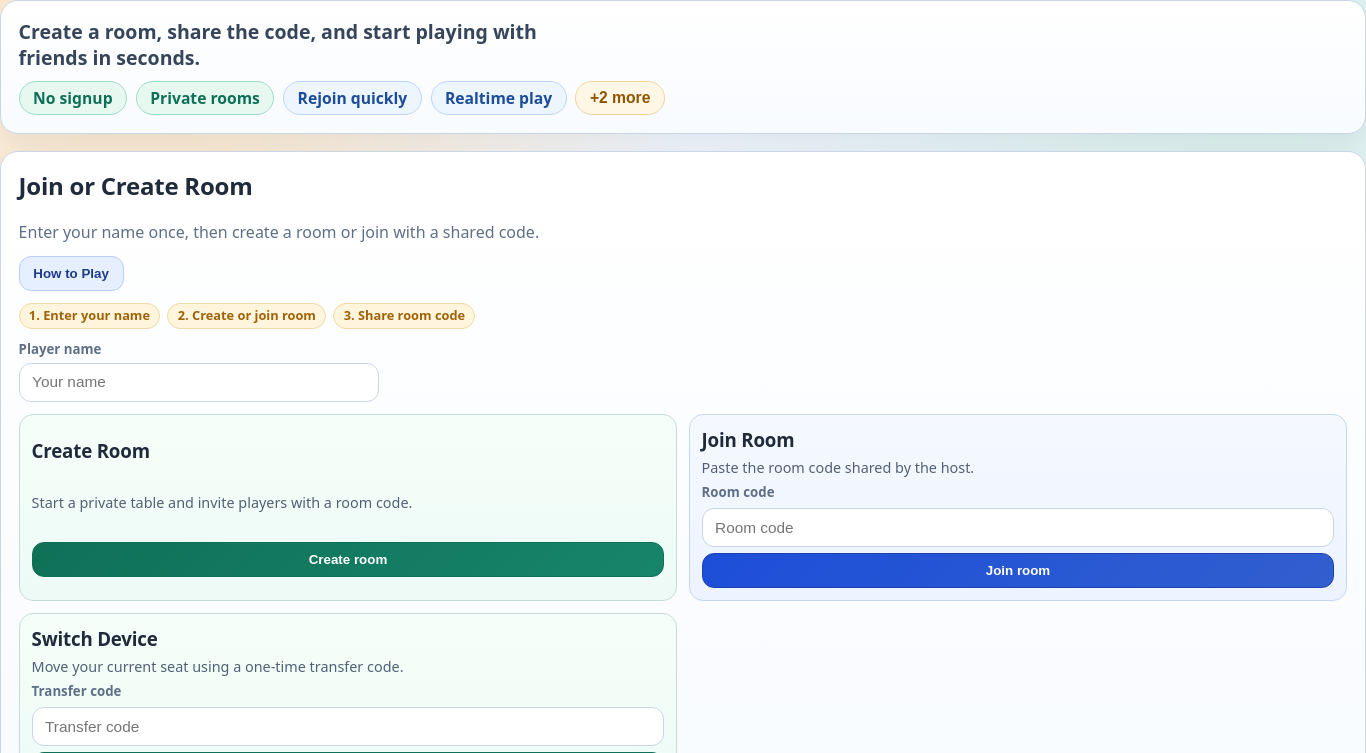
Scenario: GameClient › creates room and joins socket with saved session
Step 1. Type "Host" into the field labelled "name" → (199, 382), box top-left (19, 363), bottom-right (379, 402)
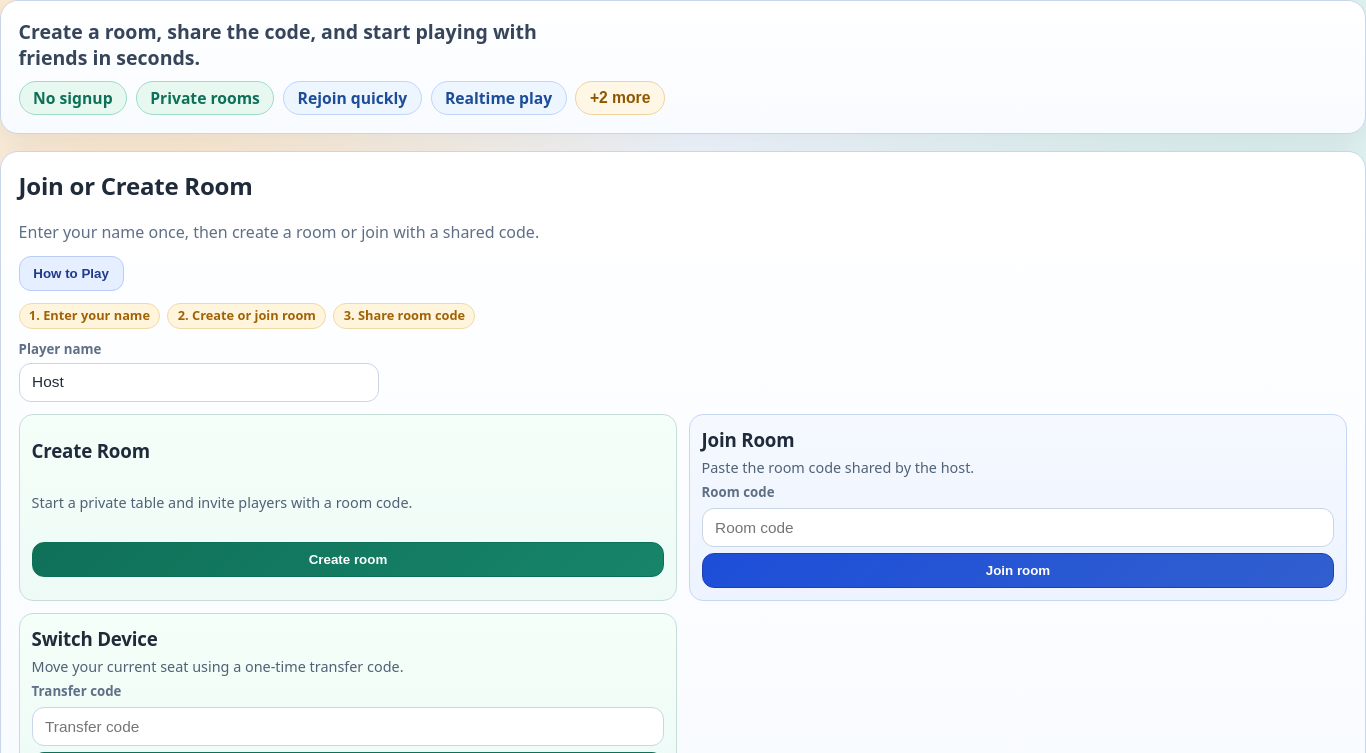
Step 2. Click the button "Create room" → (348, 559), box top-left (32, 542), bottom-right (664, 577)
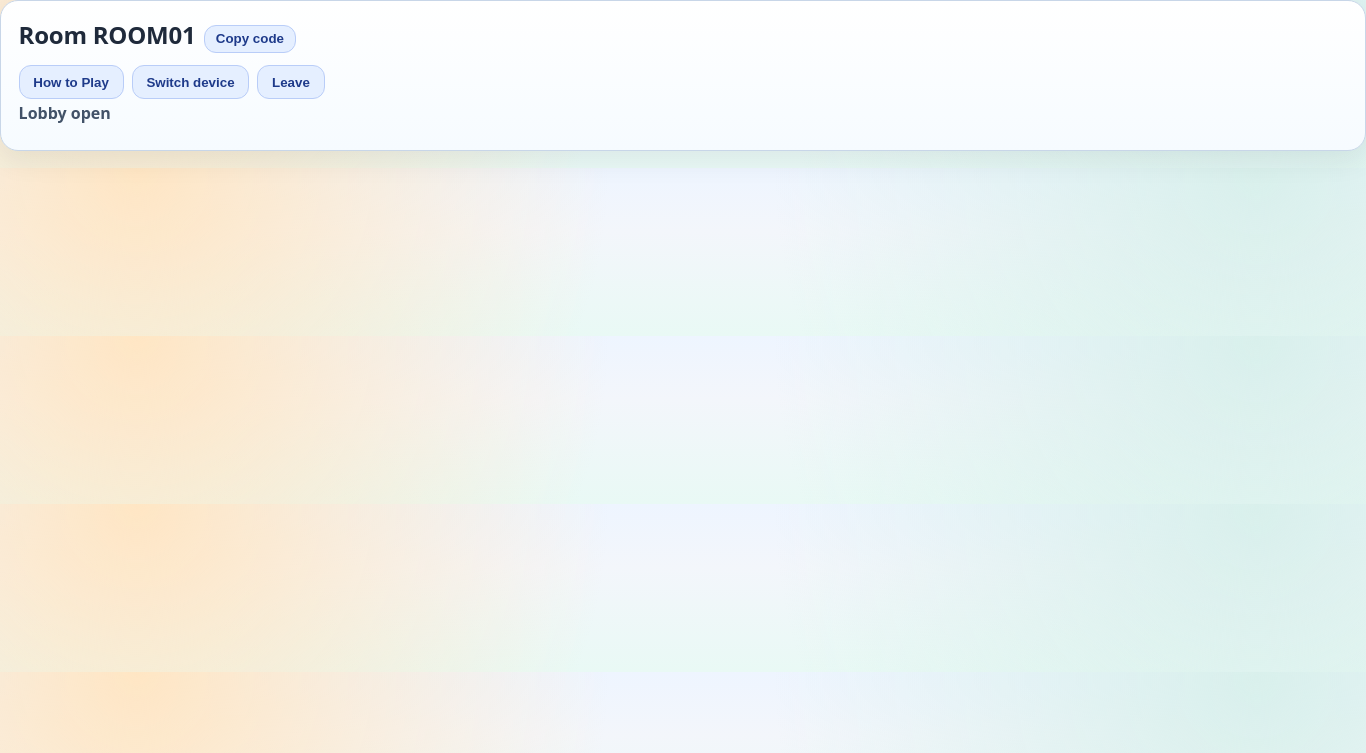
Check: the heading "Room ROOM01" is shown, box top-left (19, 19), bottom-right (196, 51)
